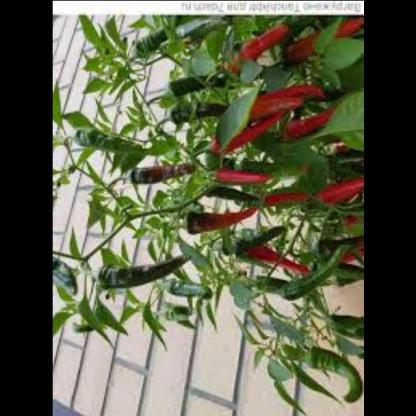hot pepper: (266, 238, 359, 314), (279, 336, 363, 404), (275, 12, 363, 73), (90, 249, 193, 300), (211, 109, 293, 159), (179, 196, 266, 243), (241, 77, 321, 123), (231, 16, 297, 69), (240, 235, 316, 281), (123, 15, 190, 66), (63, 126, 161, 156), (124, 154, 193, 191), (206, 162, 277, 197), (278, 104, 336, 146), (162, 93, 233, 126), (167, 66, 234, 98), (254, 183, 310, 214), (52, 251, 80, 300)
